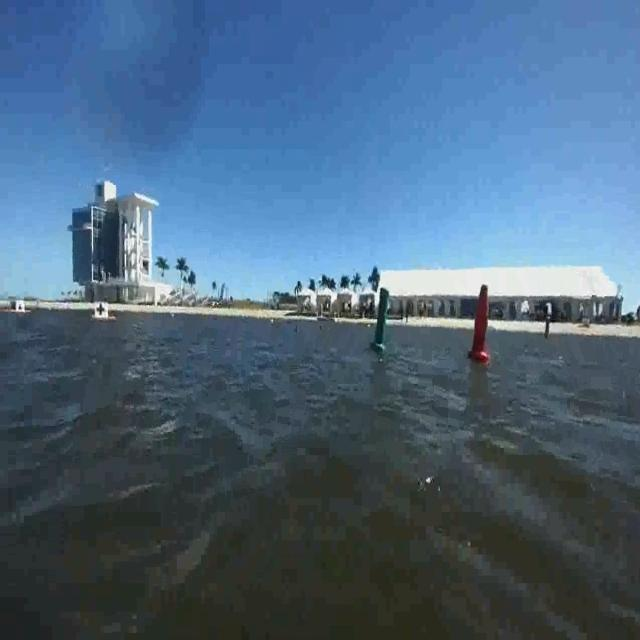green-column-buoy: (371, 286, 393, 352)
red-column-buoy: (469, 281, 493, 362)
